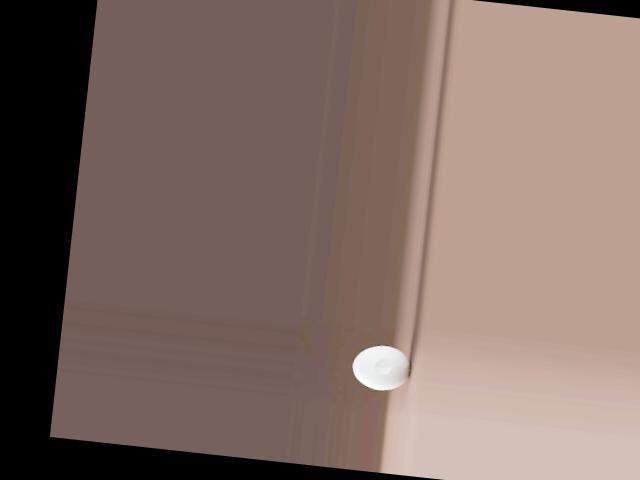egg: (350, 342, 412, 392)
